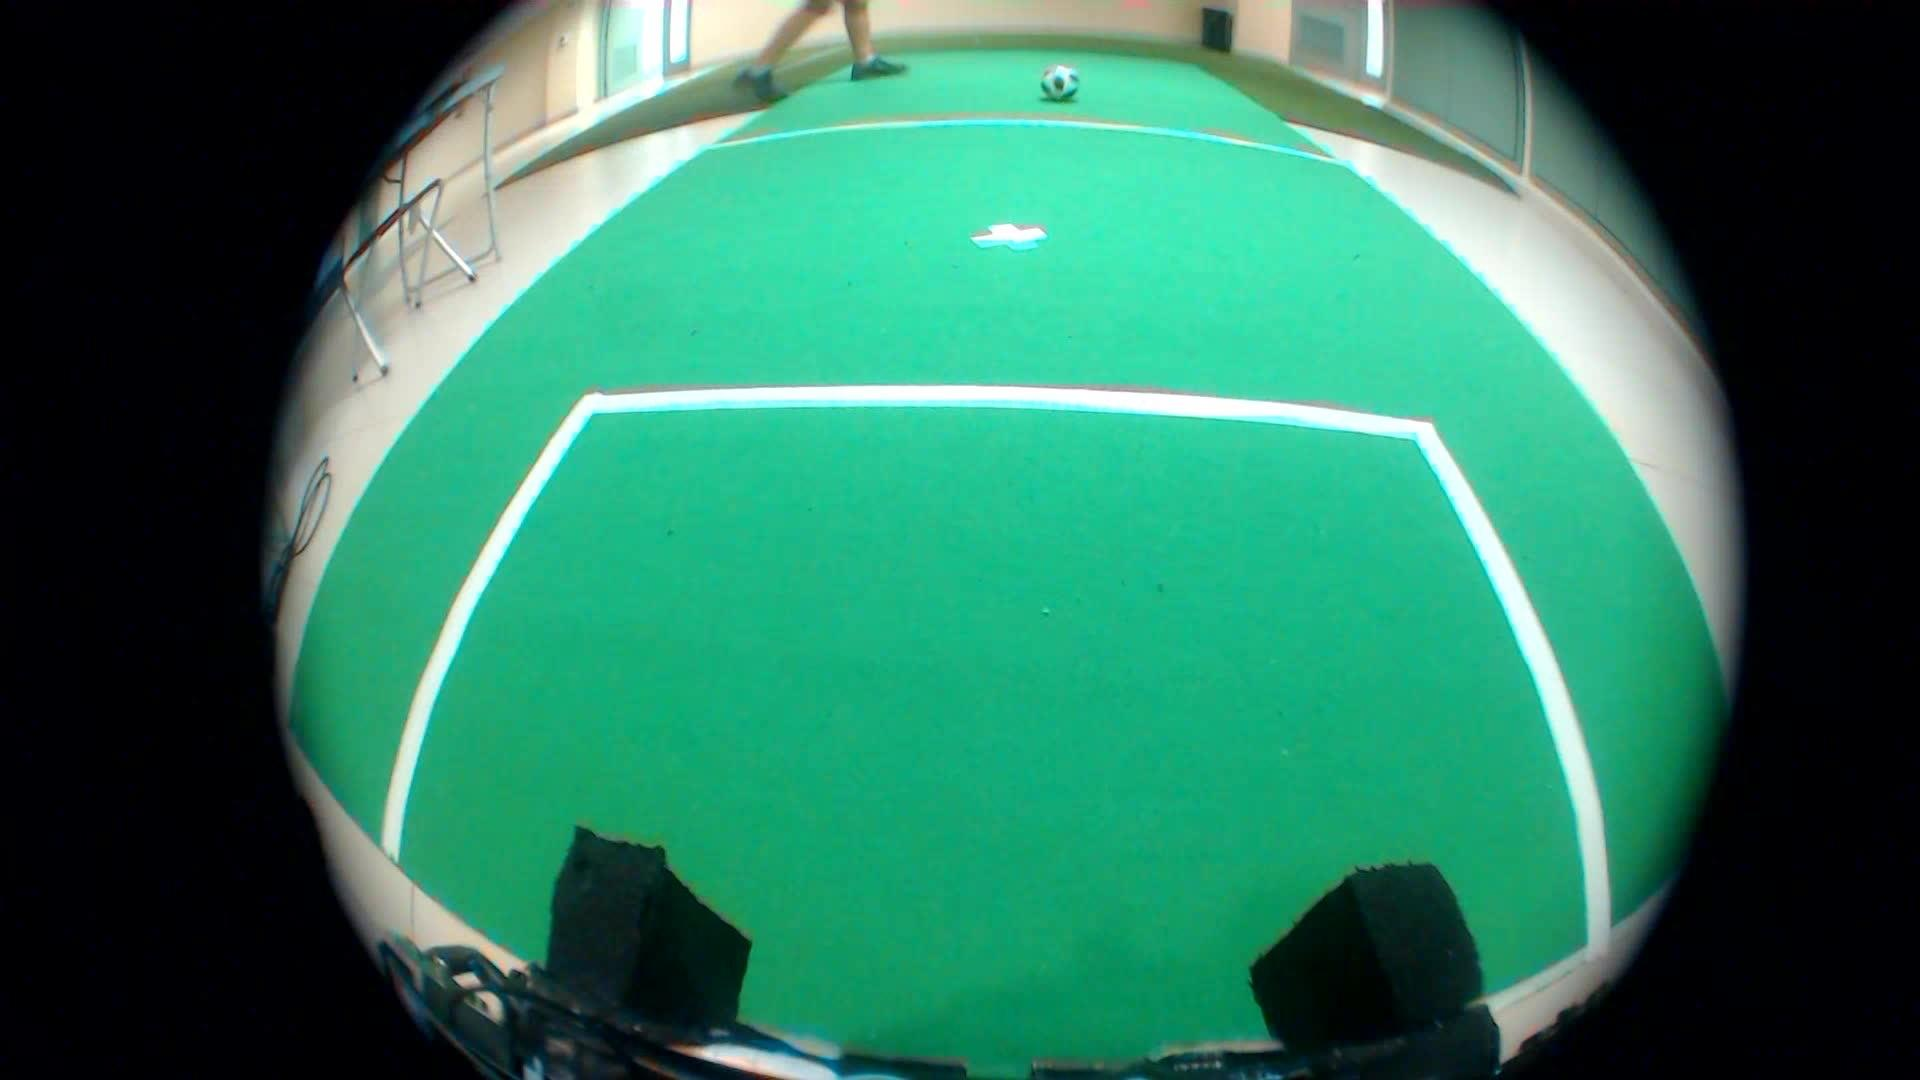ball: (1030, 61, 1087, 119)
